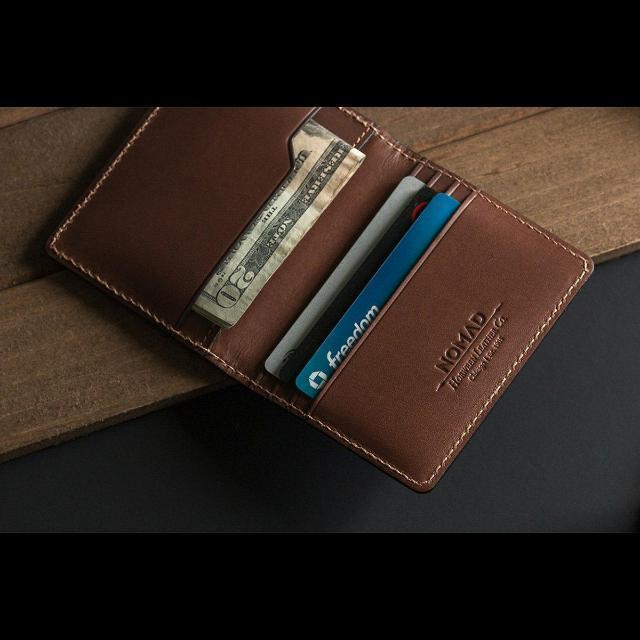wallet: (44, 111, 594, 495)
